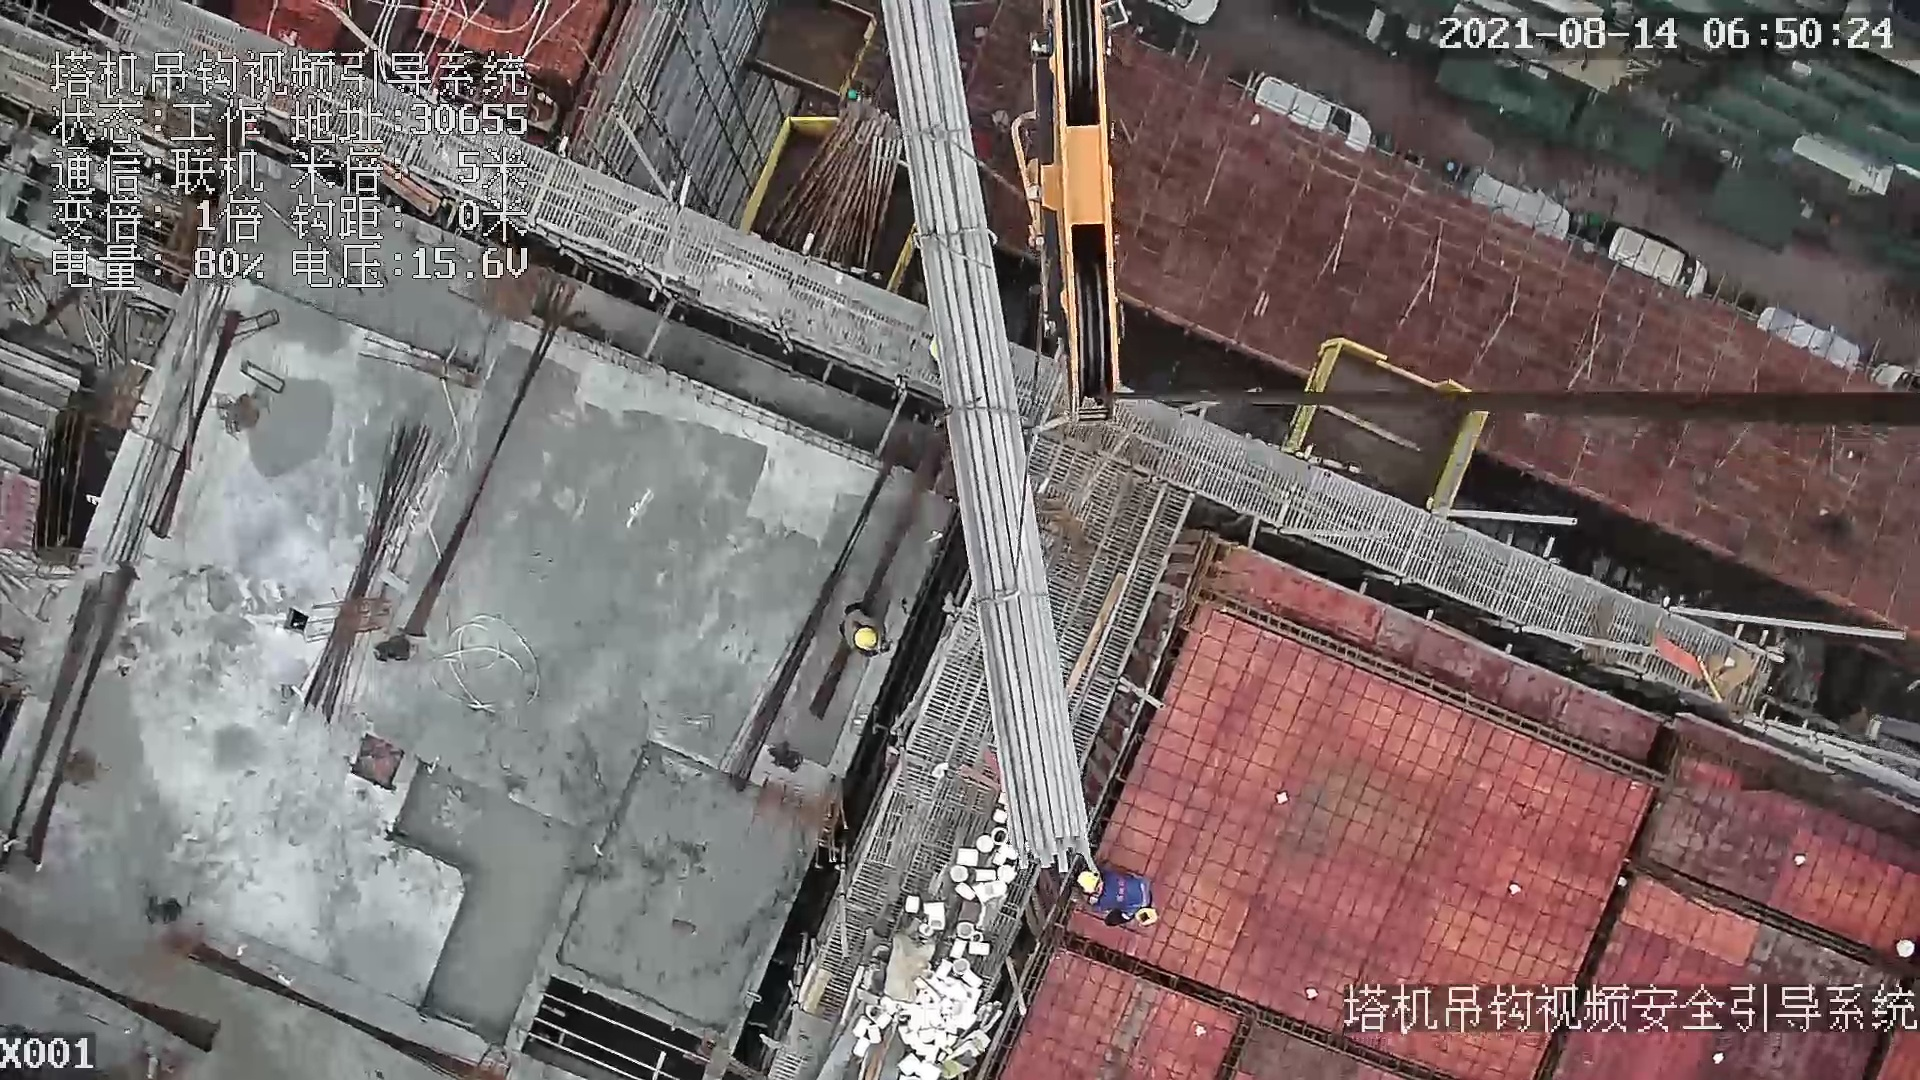helmet: (851, 629, 879, 660), (1077, 869, 1102, 895)
hook: (1001, 5, 1124, 427)
person: (1074, 867, 1160, 926), (844, 608, 890, 659)
